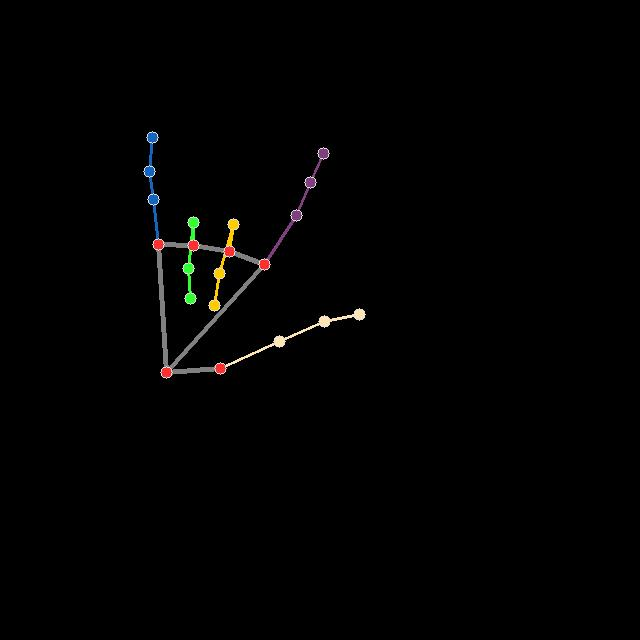spiderman: (143, 131, 366, 378)
